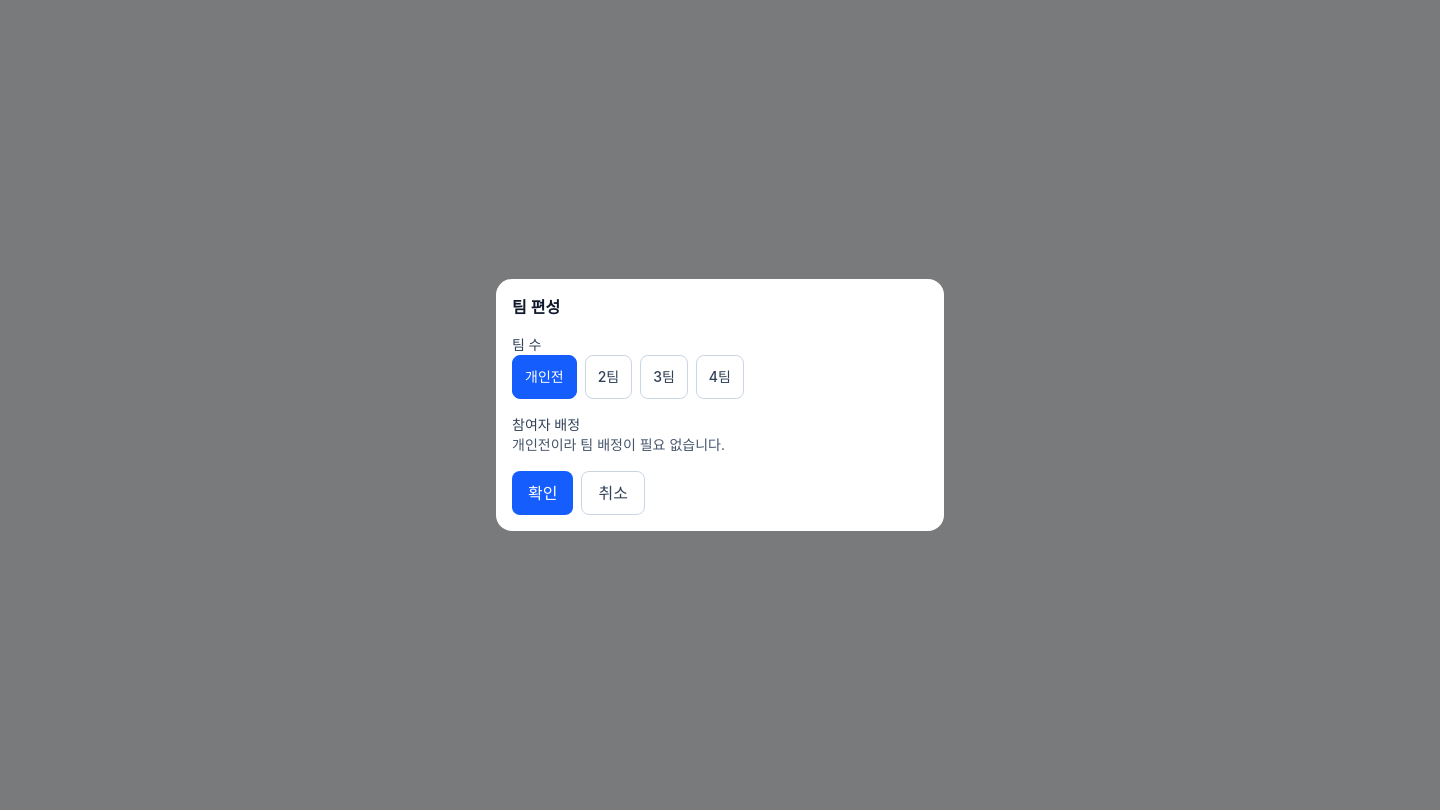
Test: TeamSheet › 칩을 탭할 때마다 소속 팀이 순환하고 배지가 바뀐다
The width and height of the screenshot is (1440, 810).
Click the button "2팀".
click(608, 377)  # box [585, 355, 632, 399]
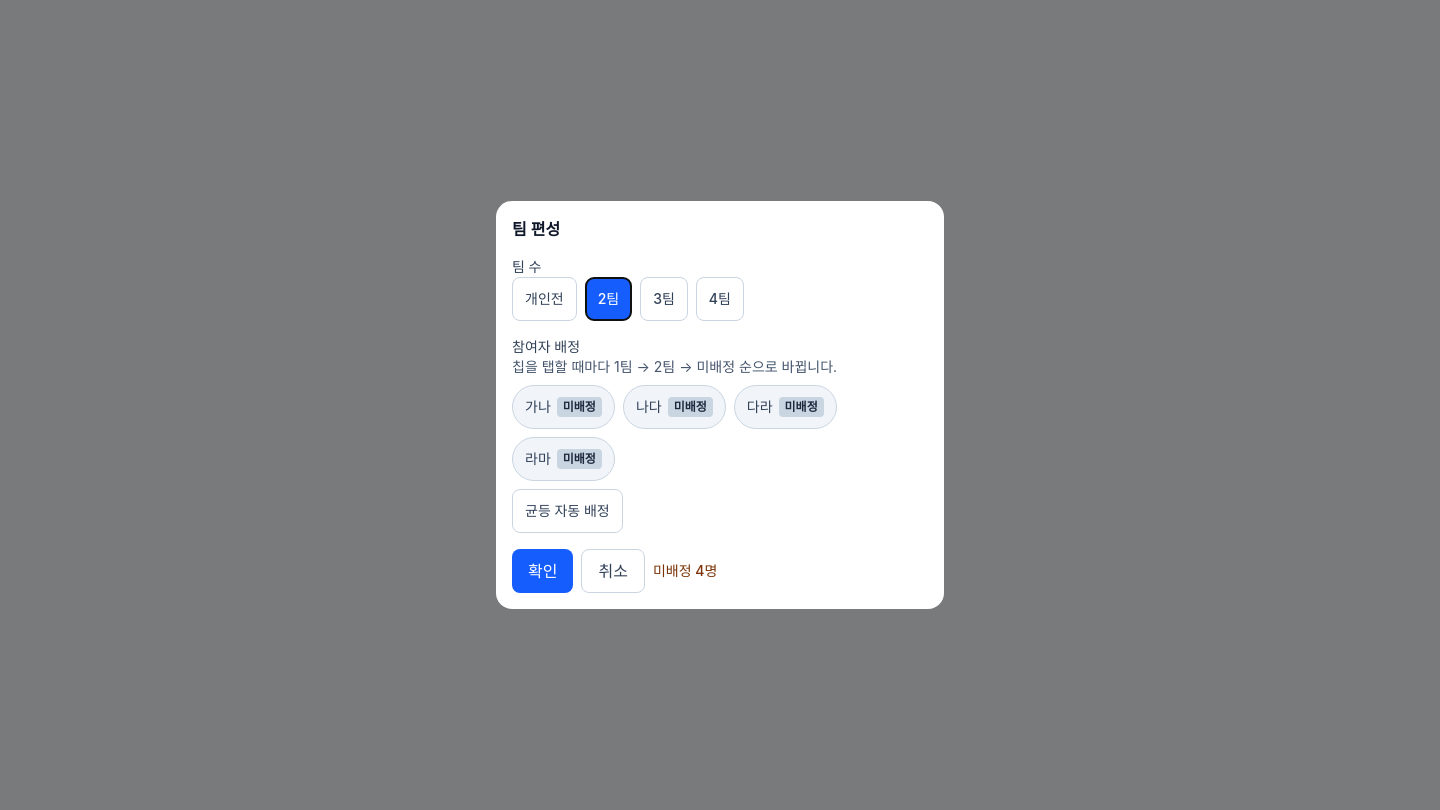
Now the 1st text "미배정" is shown, box [557, 397, 602, 417]
Click the button "가나 미배정".
click(563, 407)  # box [512, 385, 615, 429]
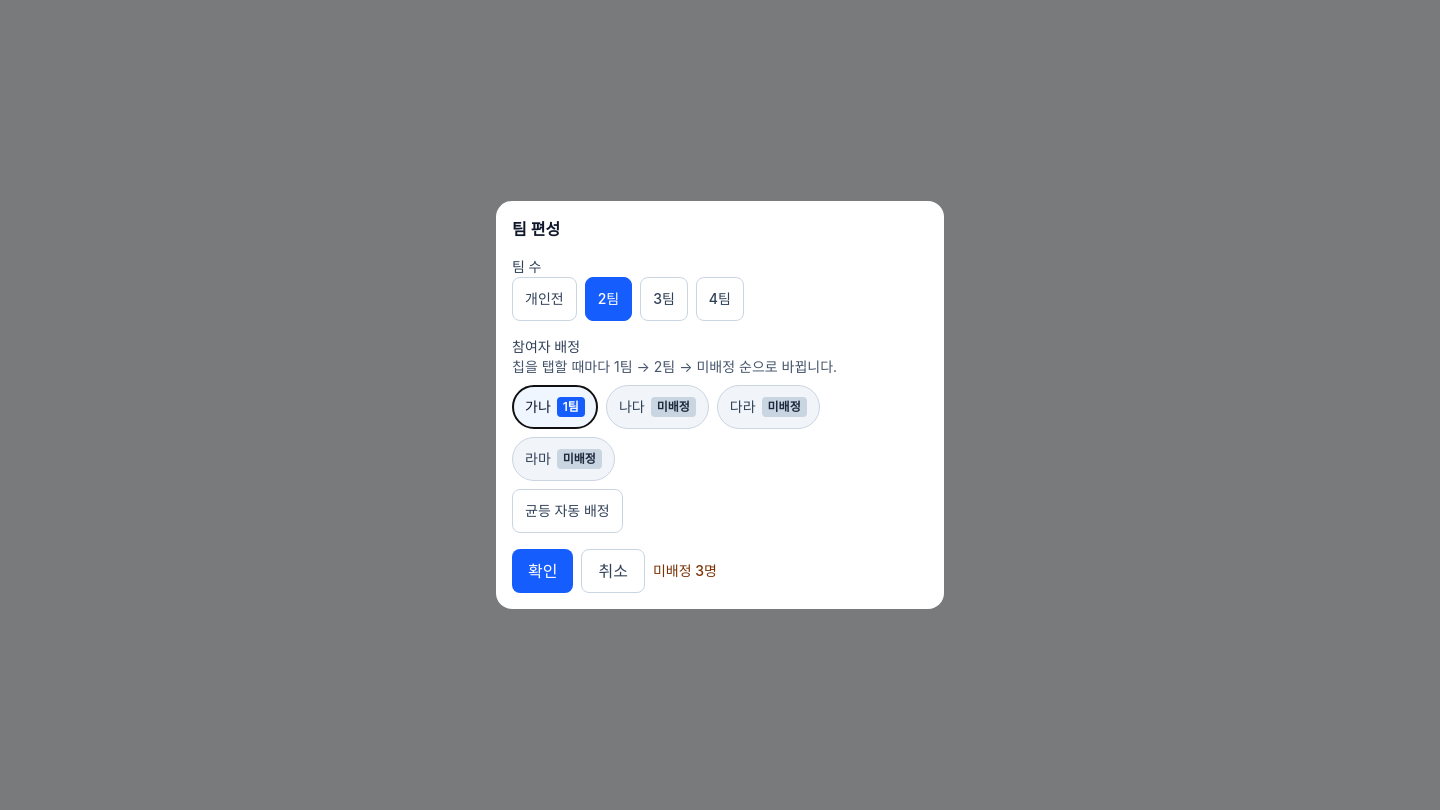
Now the text "1팀" is shown, box [557, 397, 585, 417]
Click the button "가나 1팀".
click(555, 407)  # box [512, 385, 598, 429]
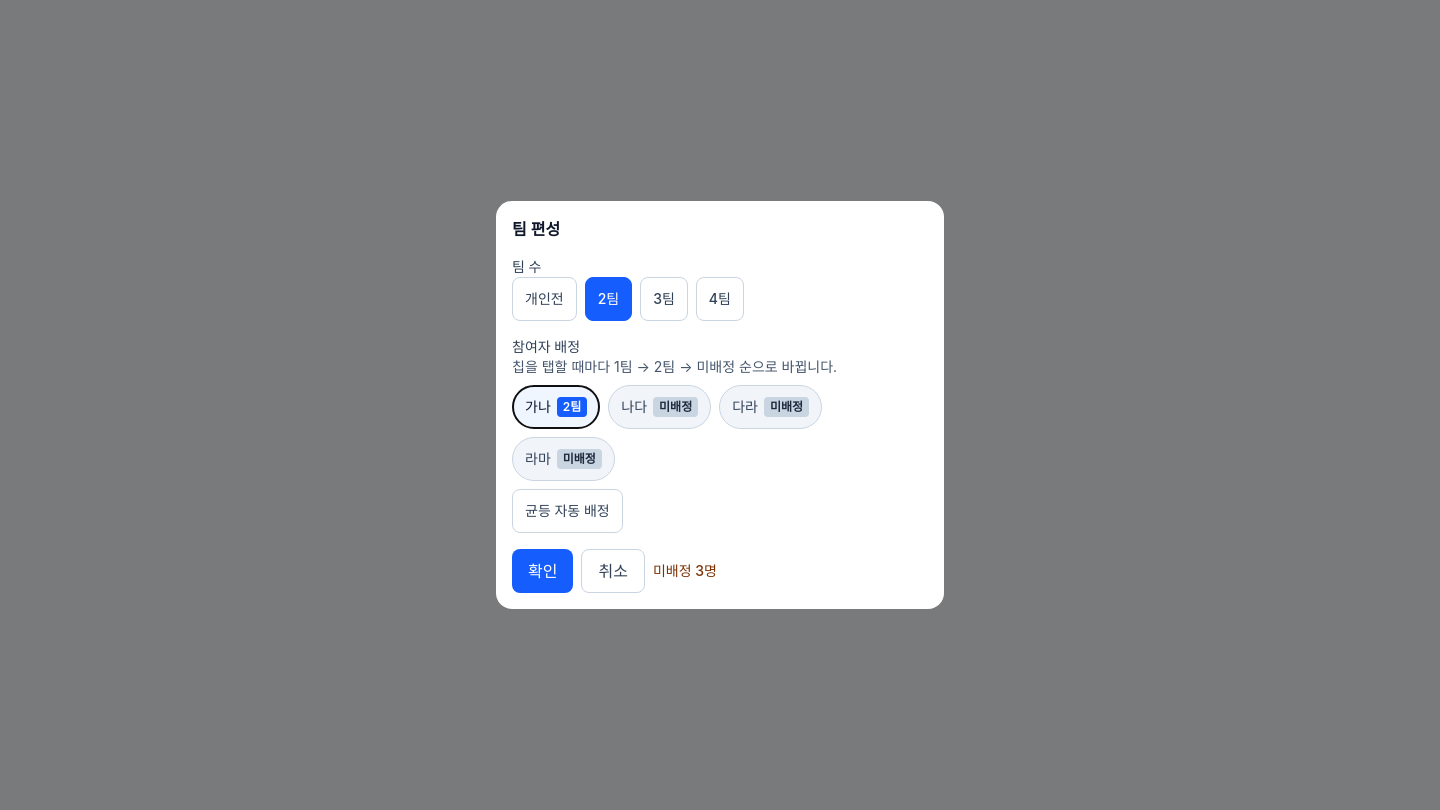
Now the text "2팀" is shown, box [557, 397, 587, 417]
Click the button "가나 2팀".
click(556, 407)  # box [512, 385, 600, 429]
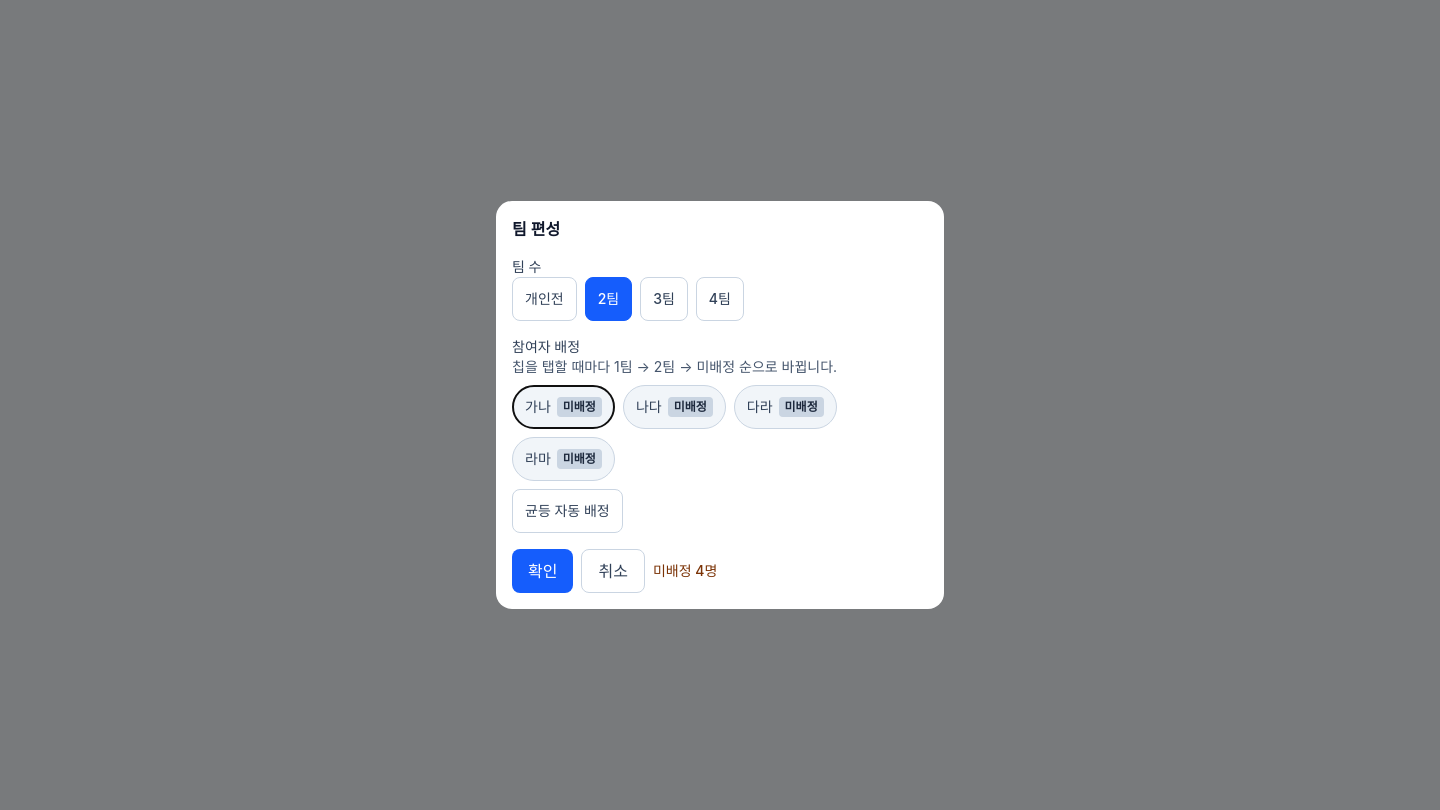
Now the 1st text "미배정" is shown, box [557, 397, 602, 417]
